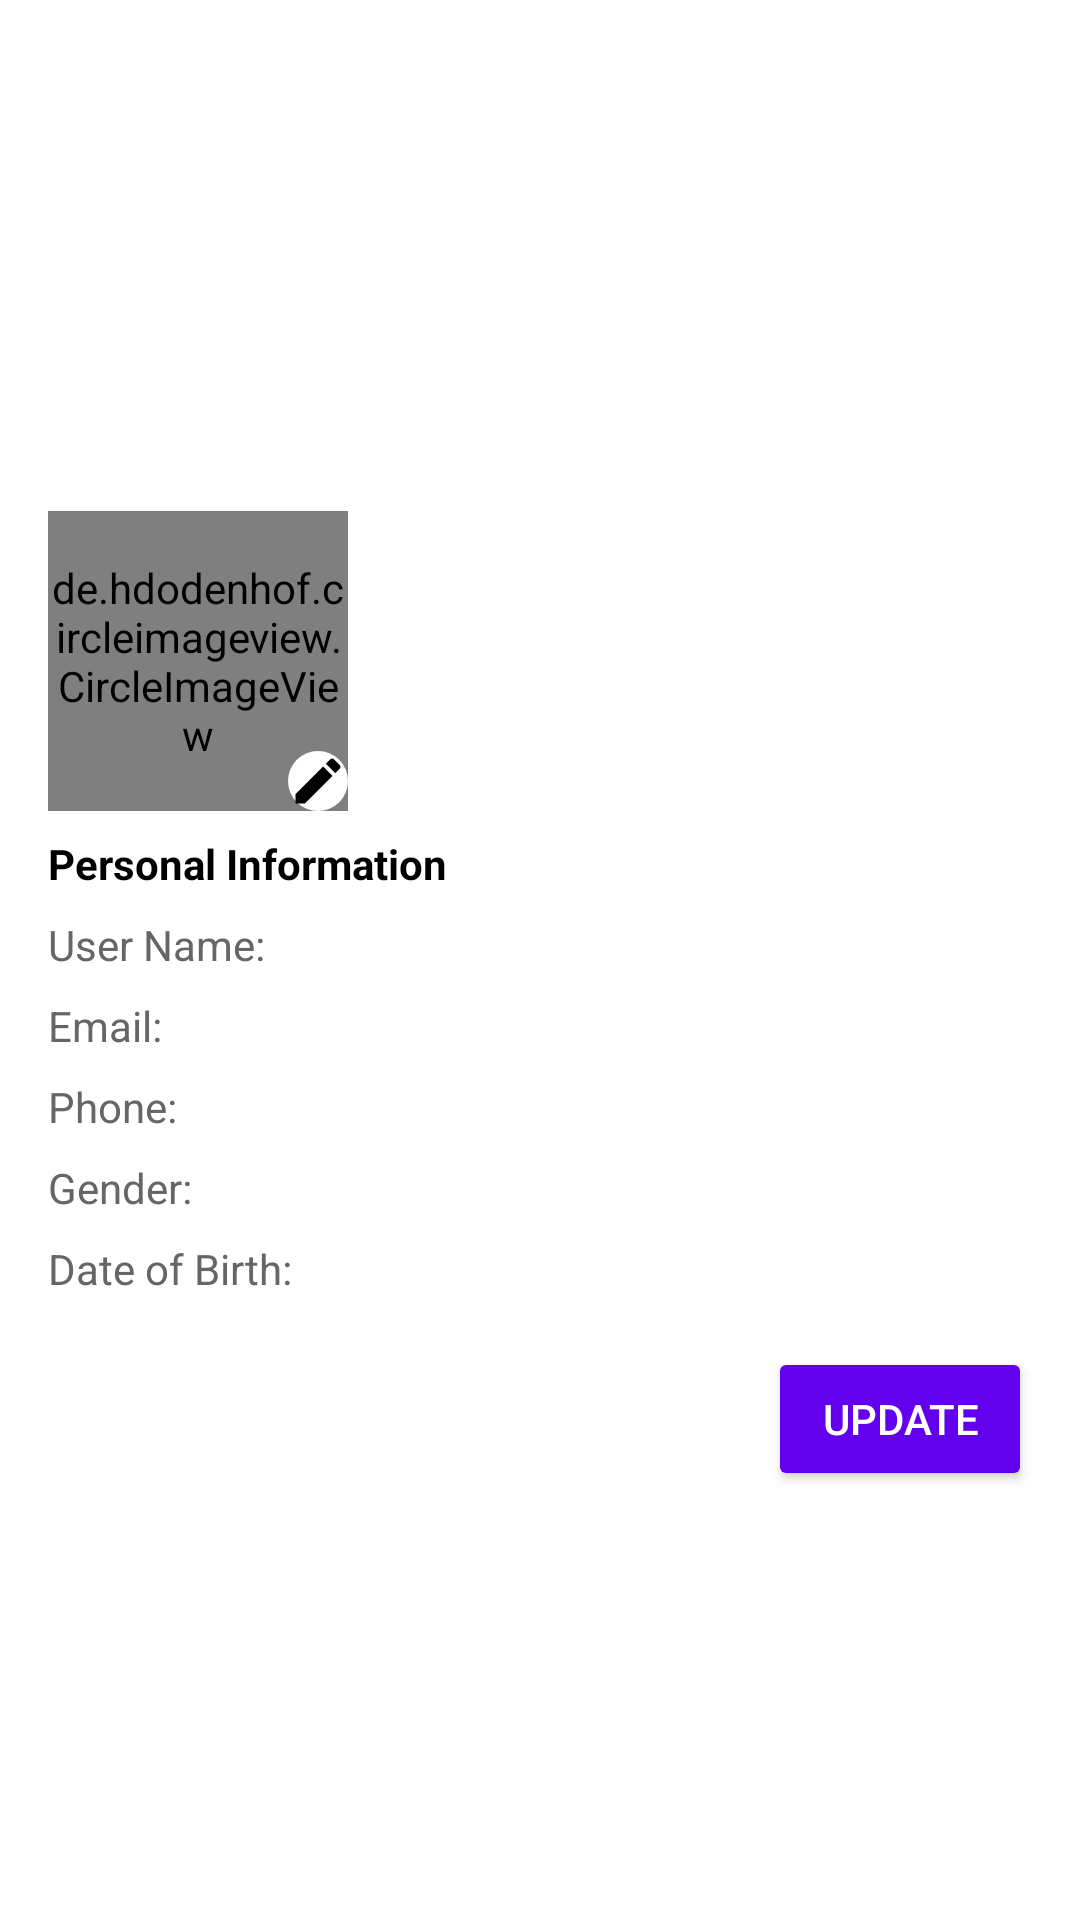

Where to tap for icons on this 1080x1920 app screen, as (x,y):
Edit Profile Image: (318,781)
